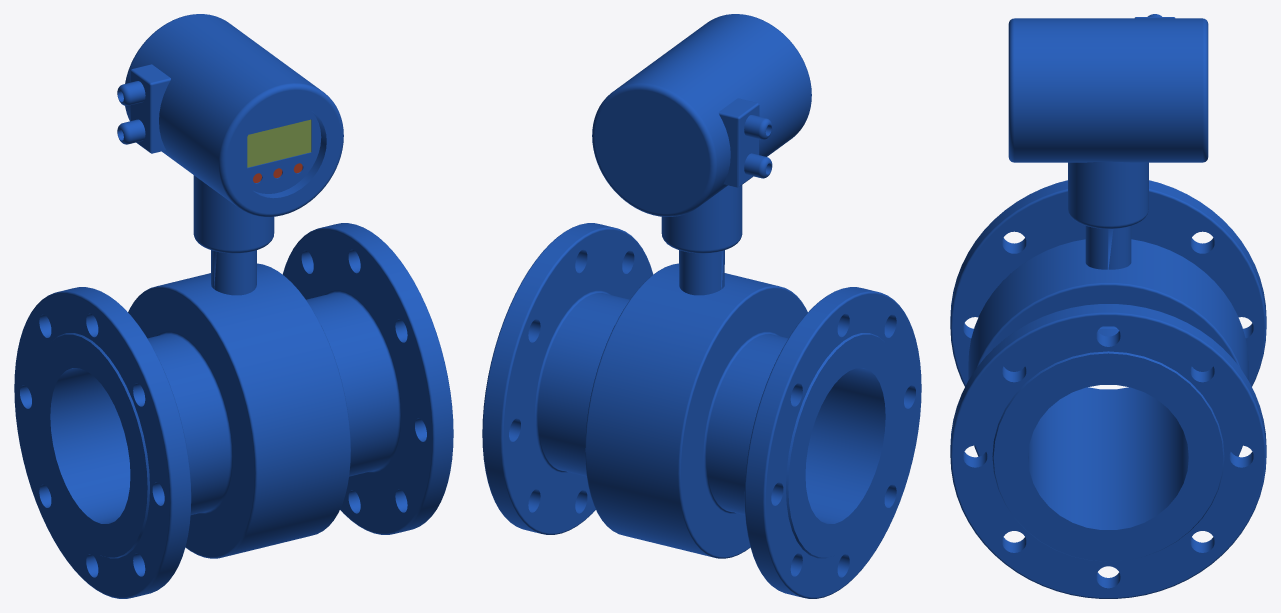
The model's file is 电磁流量计.glb.
3 views of the same model, side by side, from view 1: azimuth 30°, elevation 25°; view 2: azimuth 150°, elevation 25°; view 3: azimuth 270°, elevation 25° (orthographic).
Visible parts, largest first — view 1: 电磁流量计.SLDPRT; view 2: 电磁流量计.SLDPRT; view 3: 电磁流量计.SLDPRT.
Part boxes in pixels (x1,y1,x2,y2): 电磁流量计.SLDPRT: (14,14,453,598); 电磁流量计.SLDPRT: (482,14,921,598); 电磁流量计.SLDPRT: (950,14,1266,598).
Bounding box in the file's own units: 0.3 × 0.5023 × 0.285.
